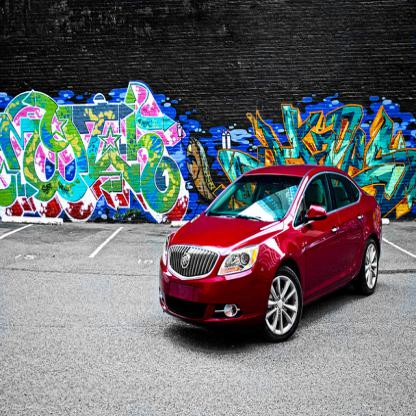Vehicle: (160, 166, 383, 346)
